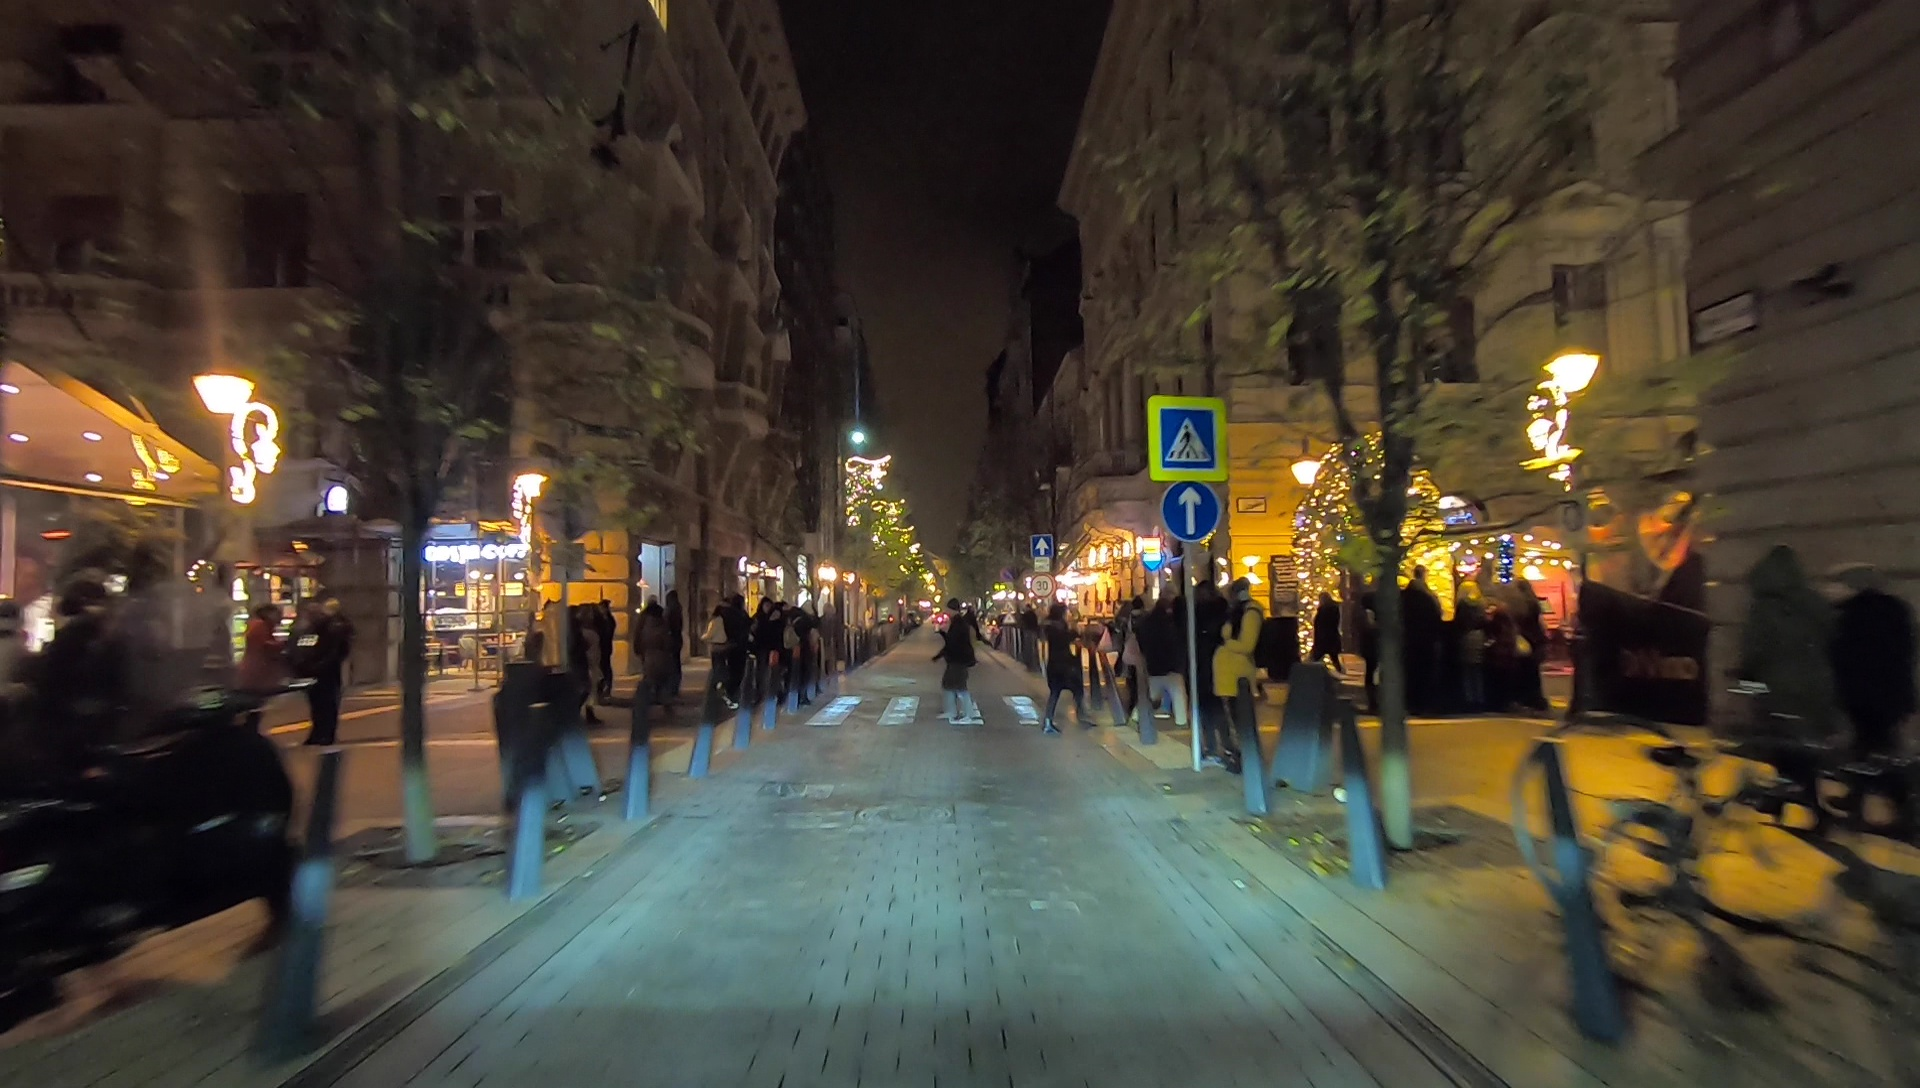person: (1741, 551, 1837, 848), (1822, 555, 1917, 832), (296, 594, 352, 751), (1221, 575, 1261, 760), (1141, 586, 1191, 728), (1041, 603, 1094, 733), (706, 595, 750, 721), (241, 609, 280, 744), (1450, 582, 1491, 707), (1400, 567, 1441, 688), (937, 603, 980, 719), (1304, 595, 1342, 695), (590, 598, 617, 706), (661, 591, 684, 710), (572, 599, 595, 709), (790, 605, 813, 709), (758, 598, 779, 701), (817, 601, 838, 684)
